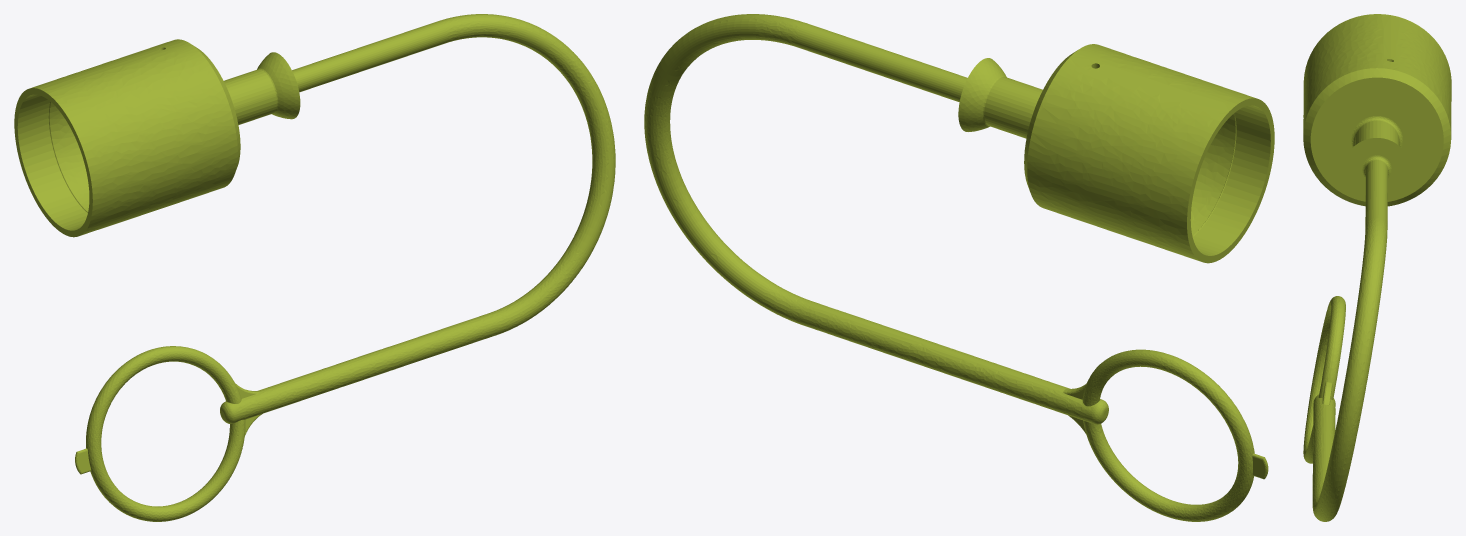
3 views of the same model, side by side, from view 1: azimuth 30°, elevation 25°; view 2: azimuth 150°, elevation 25°; view 3: azimuth 270°, elevation 25° (orthographic). The views are drawn at different scales.
Visible parts, largest first — view 1: 10293591; view 2: 10293591; view 3: 10293591.
Part boxes in pixels (x1,y1,x2,y2): 10293591: [14, 14, 615, 521]; 10293591: [644, 14, 1274, 521]; 10293591: [1303, 14, 1451, 521].
Size of the model in its own units: 1 by 0.7569 by 0.2463.
